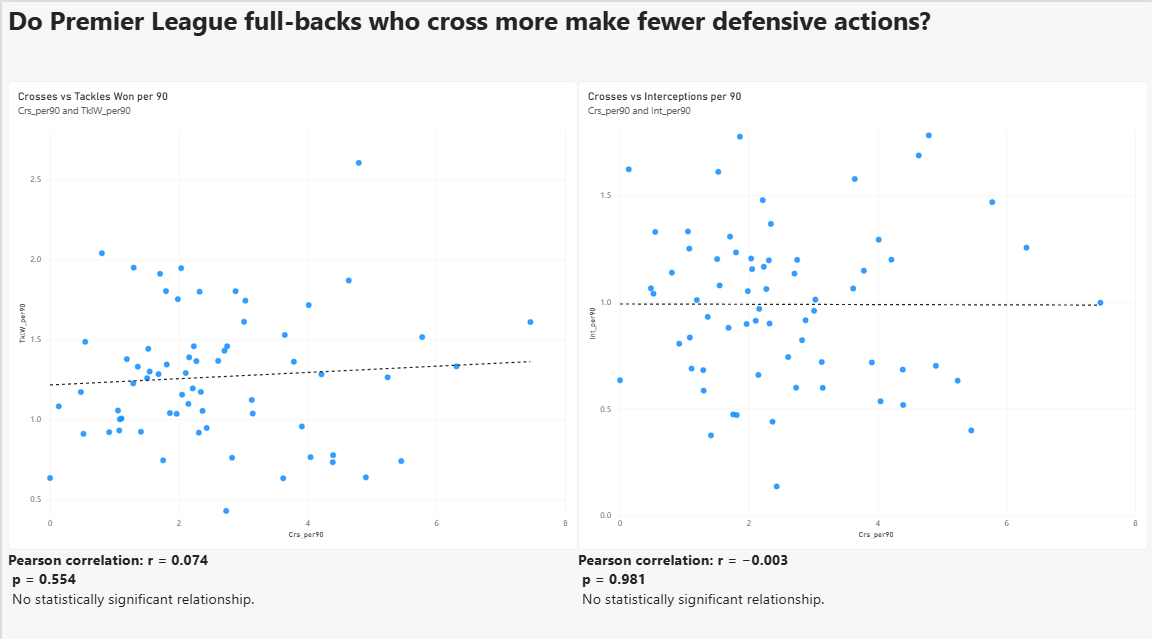

This screenshot's page, from the dashboard's own definition file:
{"tool":"powerbi","page":{"name":"Attack v Defence","canvas":[1920,1080],"ordinal":1},"visuals":[{"type":"textbox","box":[9.5,0,1911.1,76.3],"z":0},{"type":"scatterChart","title":"Crosses vs Tackles Won per 90","fields":{"X":["premier_league_fullbacks.Crs_per90"],"Y":["premier_league_fullbacks.TklW_per90"]},"box":[10,132.5,950,780],"z":1},{"type":"scatterChart","title":"Crosses vs Interceptions per 90","fields":{"X":["premier_league_fullbacks.Crs_per90"],"Y":["premier_league_fullbacks.Int_per90"]},"box":[960,132.5,950,780],"z":3},{"type":"textbox","box":[10,912.5,950,167.5],"z":4},{"type":"textbox","box":[960,912.5,950,167.5],"z":5}]}

Visuals, with their boxes in screenshot pixels (x1, y1, x2, y2), scaled from the page's 1920x1080 canvas onto the 1152x639 screenshot:
textbox: bbox=[6, 0, 1151, 45]
"Crosses vs Tackles Won per 90" scatterChart: bbox=[6, 78, 576, 540]
"Crosses vs Interceptions per 90" scatterChart: bbox=[576, 78, 1146, 540]
textbox: bbox=[6, 540, 576, 638]
textbox: bbox=[576, 540, 1146, 638]
